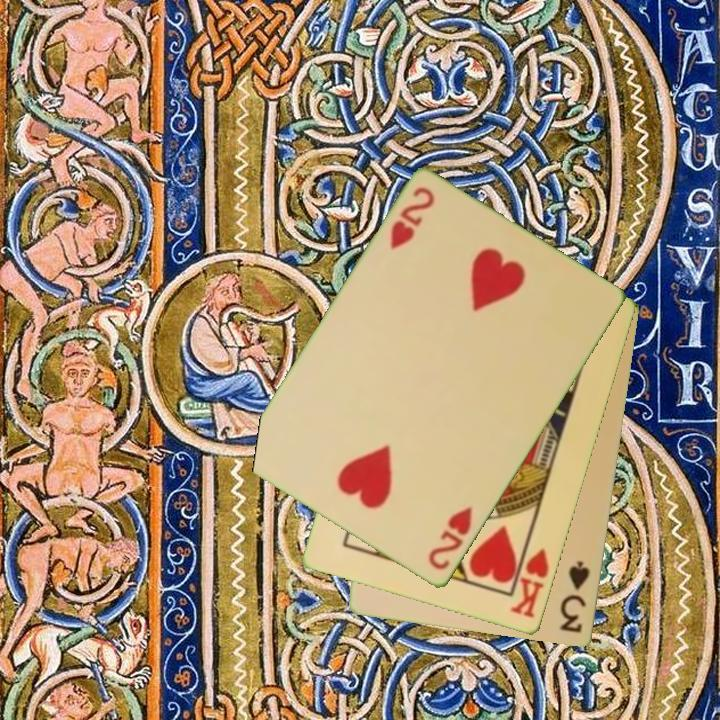2h: (424, 503, 476, 574), (387, 183, 438, 253)
3s: (556, 558, 593, 637)
Kh: (507, 537, 552, 622)
